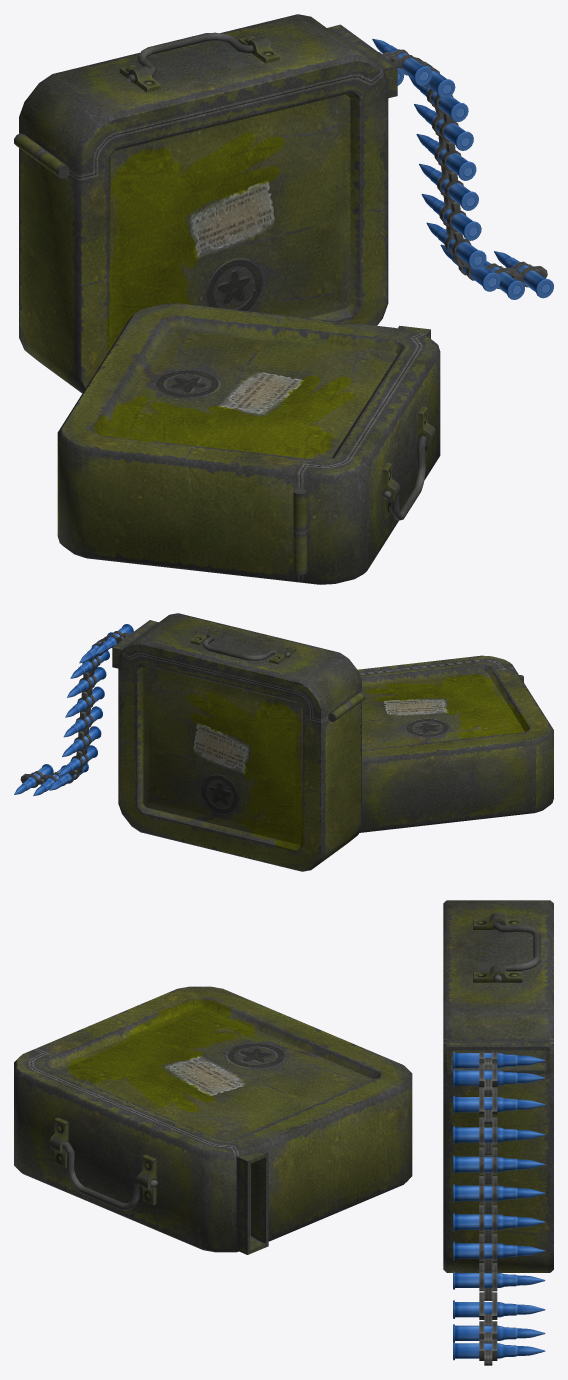
Rendered from AmmoLaserObject.fbx.
The picture shows the model from 3 angles, top to bottom: view 1: azimuth 30°, elevation 25°; view 2: azimuth 150°, elevation 25°; view 3: azimuth 270°, elevation 25°; orthographic projection. The views are drawn at different scales.
Visible parts, largest first — view 1: AmmoNormal:Object12; view 2: AmmoNormal:Object12; view 3: AmmoNormal:Object12.
Boxes of the visible parts, box(x1,y1,x2,y2) form: AmmoNormal:Object12: box(14, 14, 553, 584); AmmoNormal:Object12: box(14, 613, 553, 871); AmmoNormal:Object12: box(14, 900, 553, 1365).
Size of the model in its own units: 0.4709 by 0.2143 by 0.3806.
1 material, 1 textured.
